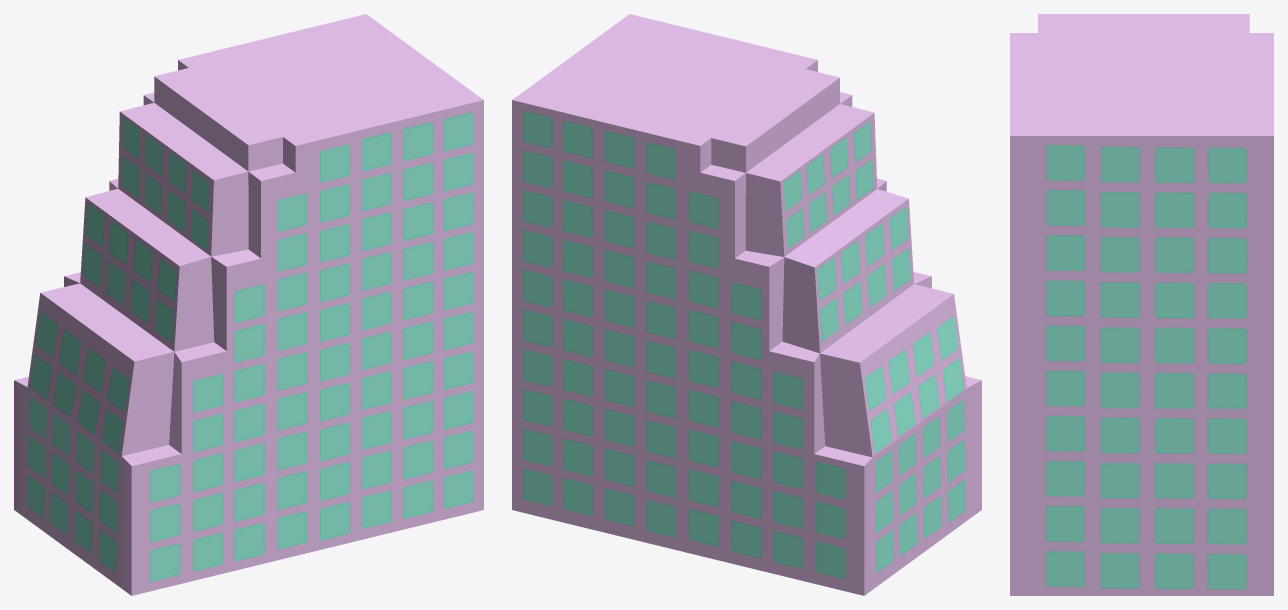
Rendered from r1Whole.fbx.
The picture shows the model from 3 angles, left to right: view 1: azimuth 30°, elevation 25°; view 2: azimuth 150°, elevation 25°; view 3: azimuth 270°, elevation 25°; orthographic projection. The views are drawn at different scales.
Parts seen in each view (by area): view 1: Rockefeller1; view 2: Rockefeller1; view 3: Rockefeller1.
Part boxes in pixels (bbox=[...]): Rockefeller1: bbox=[14, 14, 483, 595]; Rockefeller1: bbox=[512, 14, 981, 595]; Rockefeller1: bbox=[1010, 14, 1273, 595].
Size of the model in its own units: 0.1536 by 0.1709 by 0.0888.
Materials: 1 (1 with a texture image).
